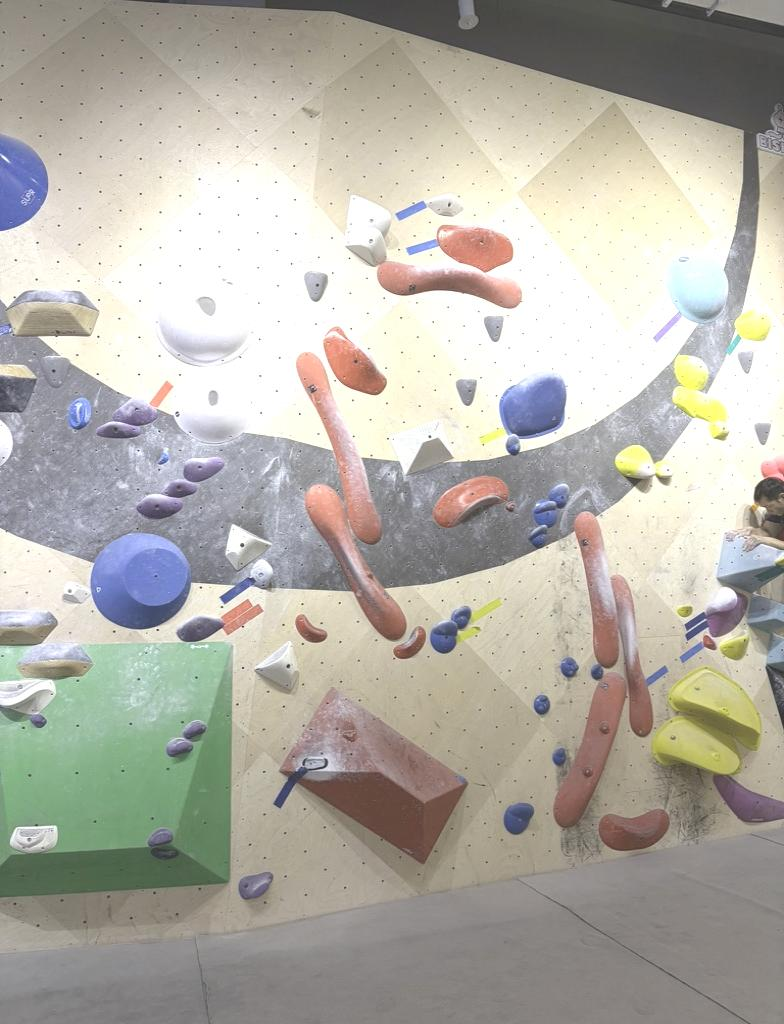crimp: (394, 626, 425, 657), (295, 614, 326, 642), (676, 605, 692, 618)
downhold: (41, 354, 69, 387), (304, 270, 328, 301), (456, 380, 476, 405), (484, 316, 503, 341), (738, 350, 753, 373), (755, 423, 770, 444)
jib: (561, 657, 578, 677), (534, 694, 548, 713), (553, 748, 566, 765), (592, 664, 602, 678)
jug: (347, 195, 391, 236), (345, 227, 385, 266), (616, 445, 653, 478), (177, 615, 223, 641), (114, 397, 156, 425), (137, 493, 182, 518), (674, 355, 707, 389), (736, 310, 771, 340), (184, 457, 225, 481), (504, 803, 533, 834), (430, 620, 456, 652), (426, 194, 462, 216), (720, 632, 748, 659), (96, 421, 140, 437), (533, 500, 556, 527), (162, 479, 196, 497), (548, 483, 569, 508), (451, 606, 471, 629), (530, 525, 546, 547), (655, 461, 671, 478)
ledge: (377, 261, 521, 308), (438, 225, 511, 271), (599, 808, 669, 850), (673, 386, 725, 422)
pocket: (154, 272, 256, 365), (173, 367, 252, 443)
sidepull: (297, 352, 381, 543), (306, 484, 405, 639), (554, 672, 625, 827), (575, 512, 618, 668), (611, 575, 652, 736), (324, 327, 386, 393)
sloper: (91, 534, 190, 628), (499, 372, 566, 436), (668, 251, 727, 323), (8, 291, 97, 336)
tape: (224, 600, 262, 634), (274, 767, 306, 807), (220, 577, 253, 603), (653, 312, 681, 341), (470, 598, 500, 621), (149, 382, 173, 407), (685, 612, 706, 639), (396, 201, 426, 219), (681, 638, 703, 661), (406, 239, 438, 254), (647, 665, 668, 685), (480, 427, 504, 444), (456, 626, 480, 642), (727, 334, 740, 354)
undercling: (668, 668, 761, 749), (651, 718, 740, 774)
volume: (0, 643, 232, 895), (280, 688, 467, 862)
